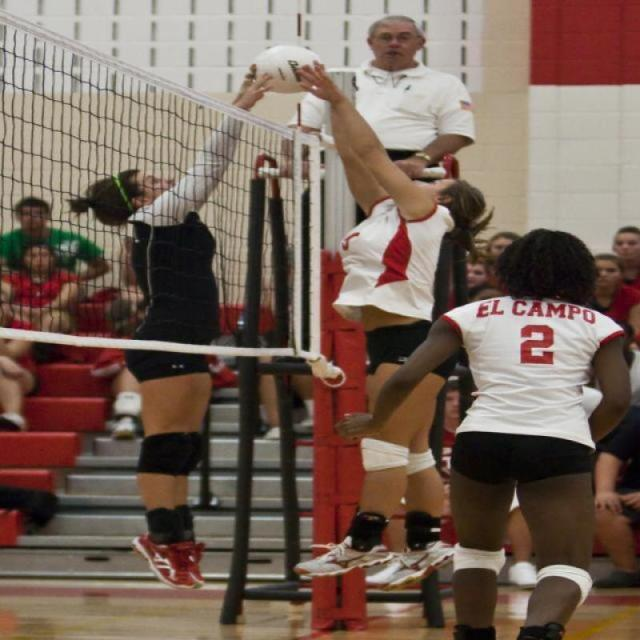volleyball: (249, 42, 324, 94)
